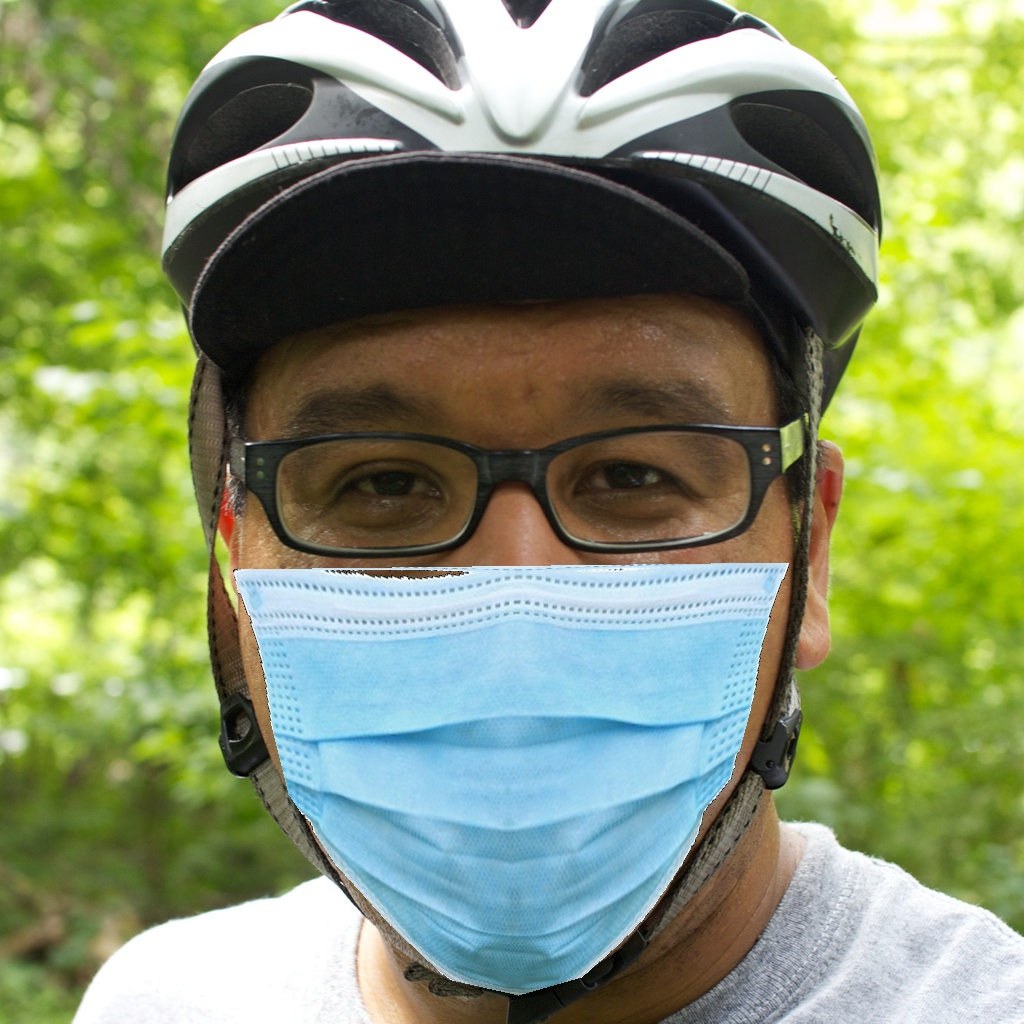with_mask: (238, 358, 790, 994)
